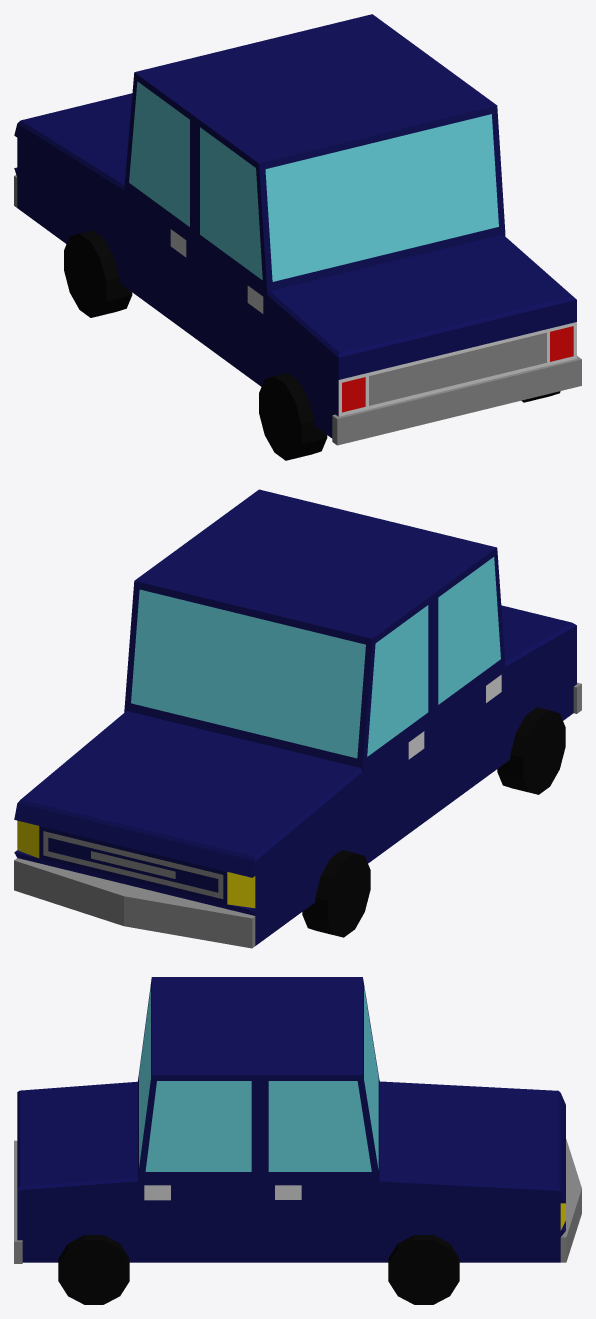
The model's file is Car_Blue.fbx.
3 renders of one model, top to bottom at view 1: azimuth 30°, elevation 25°; view 2: azimuth 150°, elevation 25°; view 3: azimuth 270°, elevation 25°, orthographic. The views are drawn at different scales.
Visible parts, largest first — view 1: Model; view 2: Model; view 3: Model.
Boxes of the visible parts, x1,y1,x2,y2 form: Model: (14, 14, 581, 460); Model: (14, 489, 581, 948); Model: (14, 977, 581, 1304).
Bounding box in the file's own units: 30.34 × 29.07 × 66.76.
